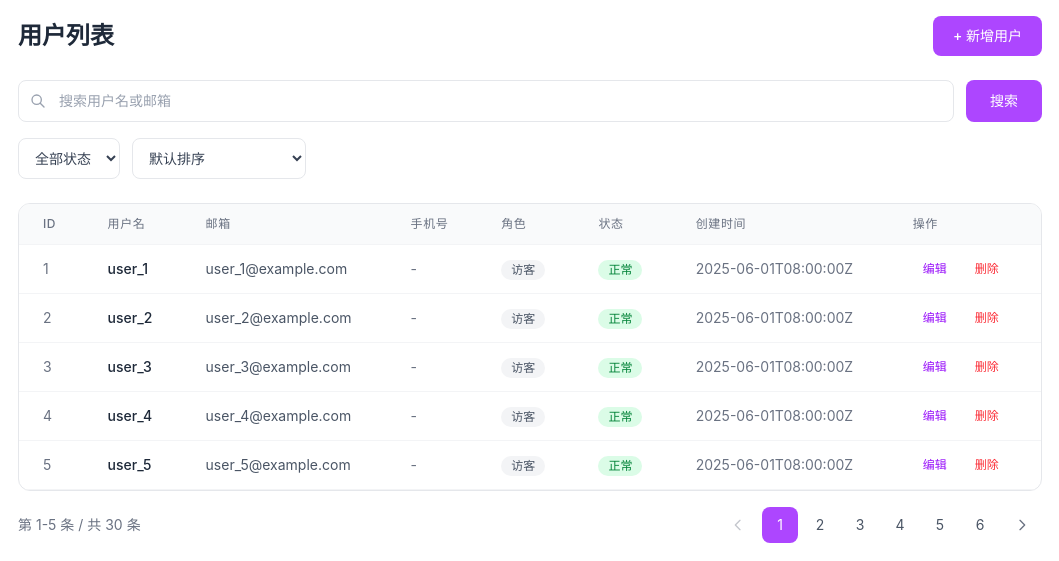
Test: UserListPage — 搜索 + 分页联动 › 搜索 → 翻页 → 重新搜索 → 翻页（完整流程）
Expected: the text "user_1" is shown, [84,244,182,294]
Type "dev" into the field with placeholder "搜索用户名或邮箱". click: (486,101)
box: [18,80,954,122]
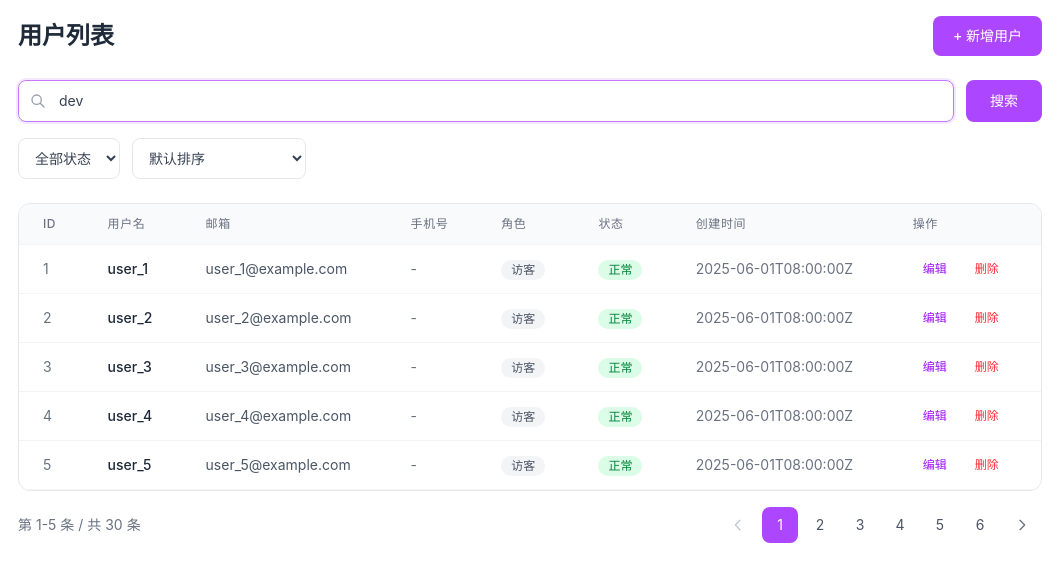
Click the button "搜索". click: (1004,101)
box: [966,80,1042,122]
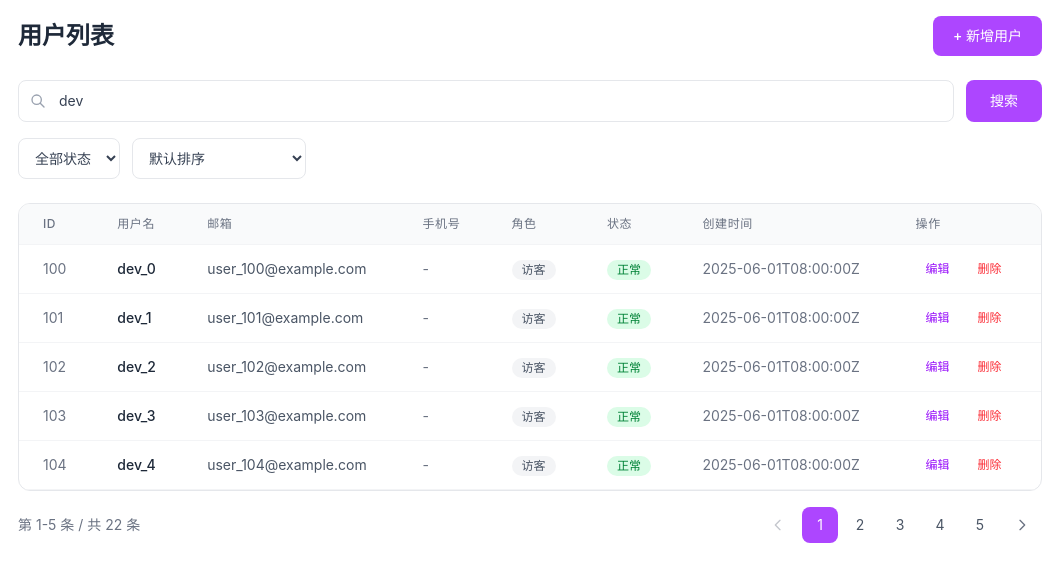
Now the text "dev_0" is shown, box [93,244,183,294]
Click the button "2". click: (860,525)
box: [842,507,878,543]
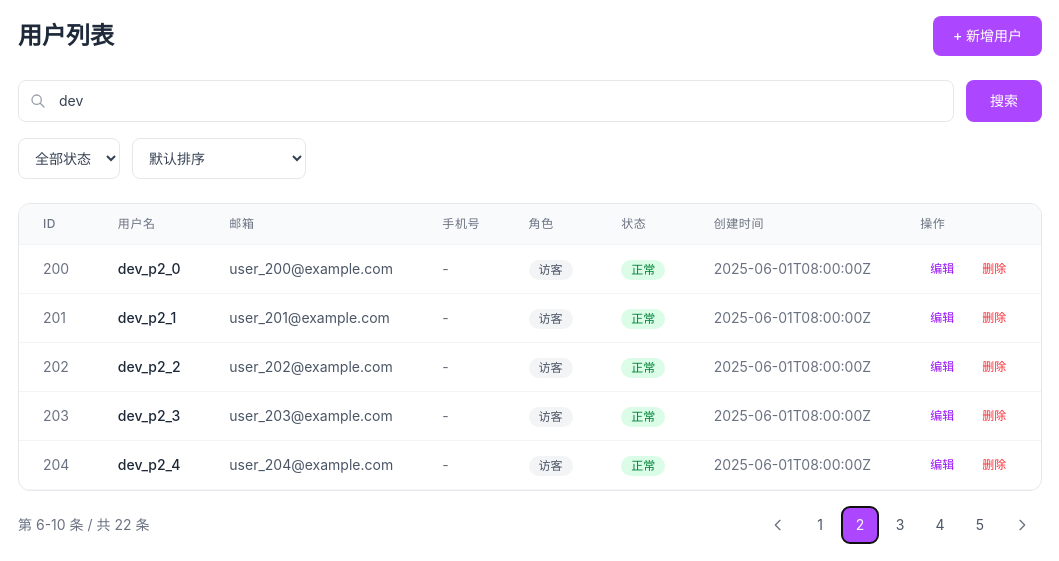
Now the text "dev_p2_0" is shown, box [94,244,205,294]
清空旧 keyword 并输入新的
Replace the text in the field with placeholder "搜索用户名或邮箱" with "ops". click: (486,101)
box: [18,80,954,122]
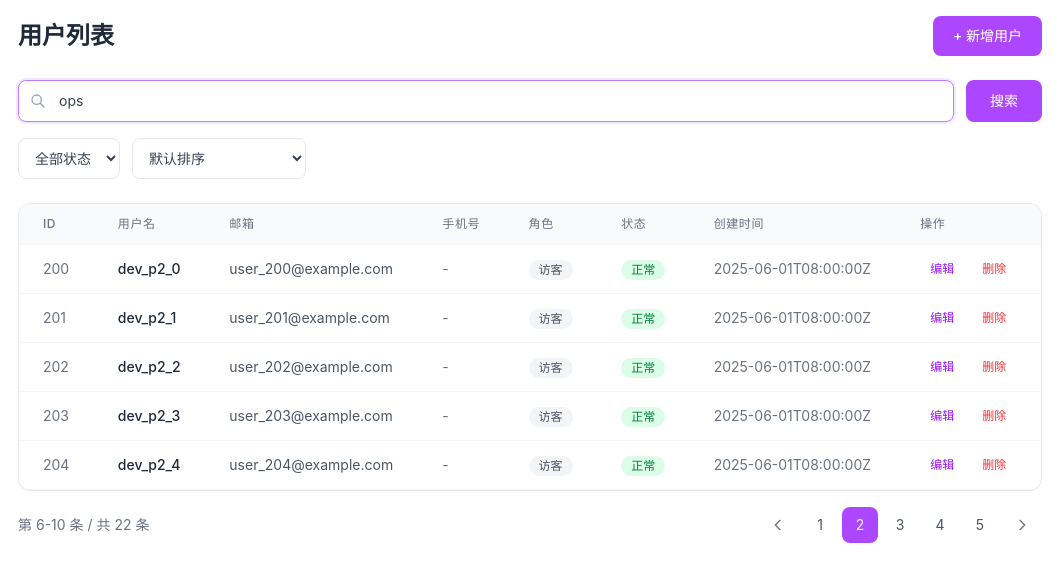
Click the button "搜索". click: (1004,101)
box: [966,80,1042,122]
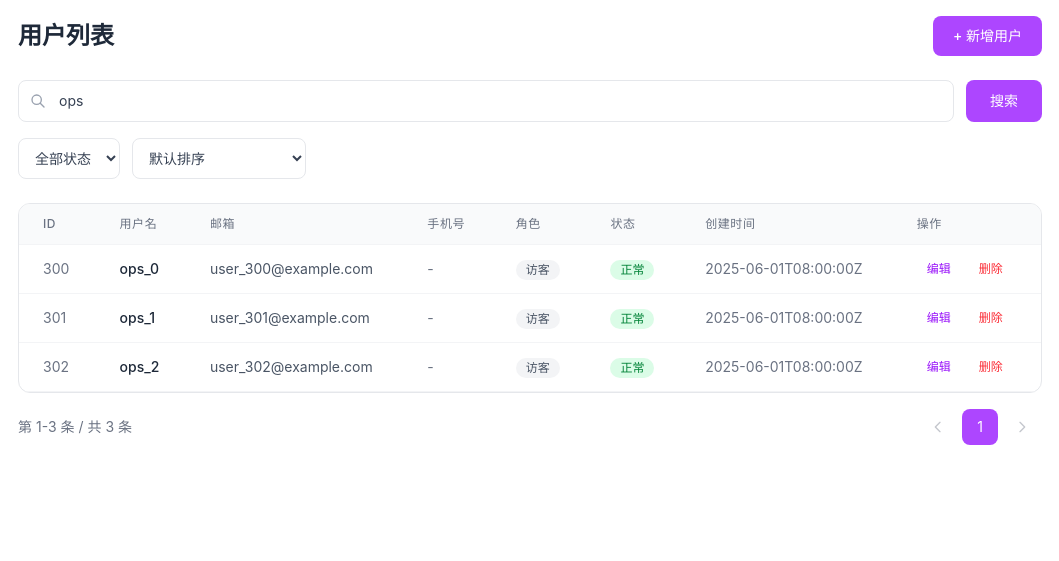
Now the text "ops_0" is shown, box [96,244,186,294]
